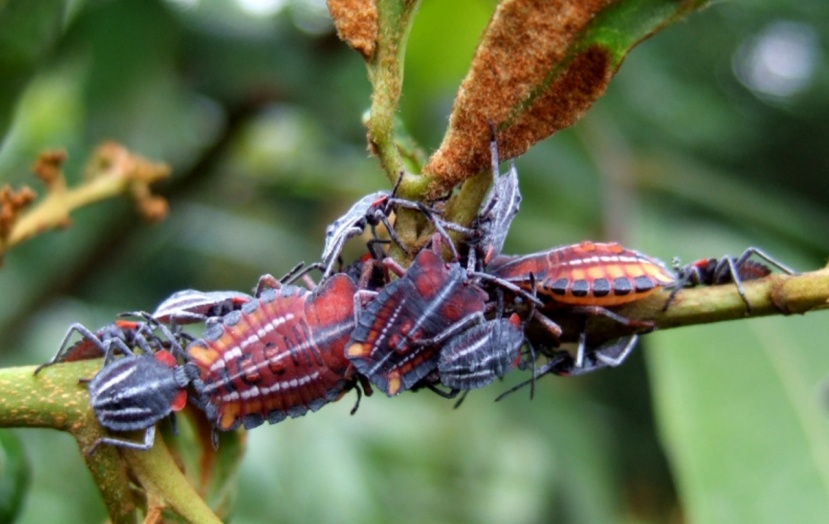Stink_Bug: (196, 265, 402, 435), (366, 253, 560, 404), (499, 246, 674, 350), (58, 325, 185, 415), (319, 189, 398, 260), (472, 163, 521, 264), (665, 255, 780, 288), (162, 295, 242, 319)
